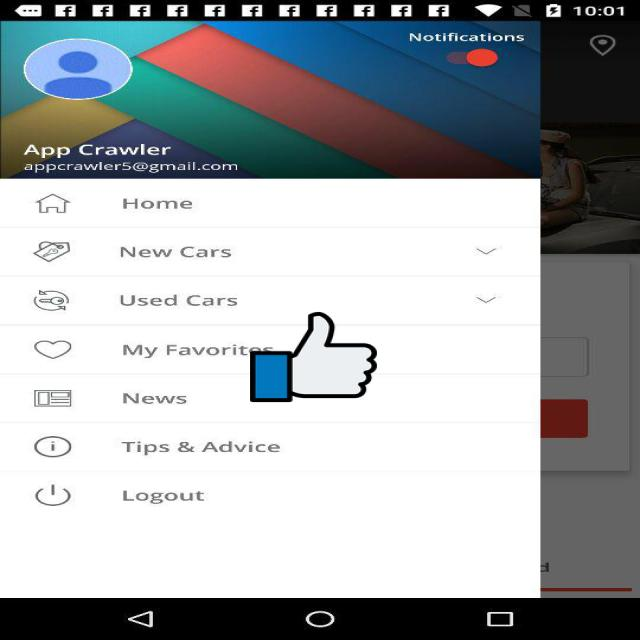privacy zuckering: (250, 310, 377, 404)
